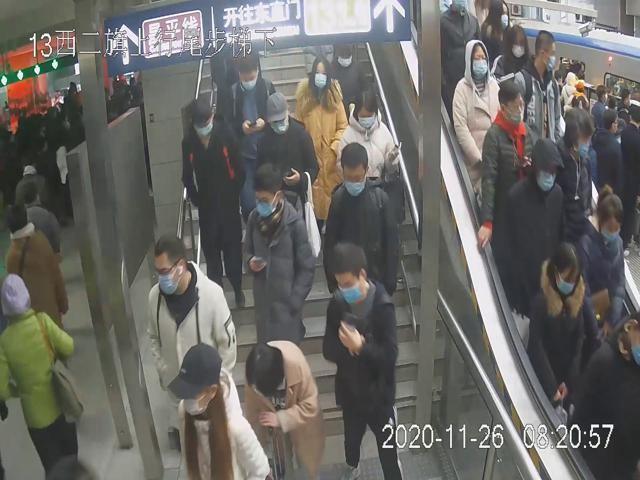person: (324, 239, 401, 480), (150, 234, 235, 420), (505, 136, 577, 348), (241, 164, 316, 355), (167, 342, 269, 480), (181, 99, 245, 315), (325, 140, 401, 303), (243, 336, 321, 480), (477, 78, 540, 248), (534, 243, 595, 414), (294, 52, 347, 230), (250, 91, 316, 202), (337, 76, 403, 184), (451, 32, 496, 176), (222, 47, 275, 148)
